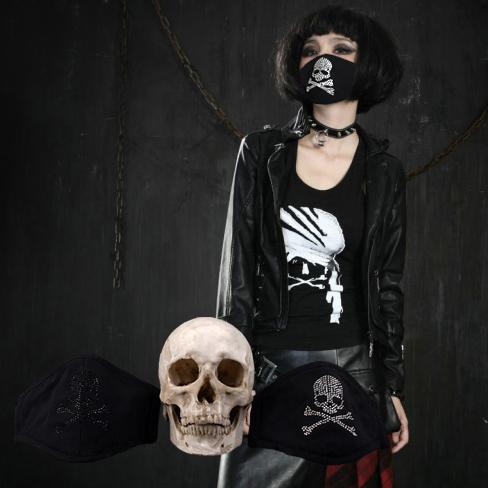OK: (292, 33, 358, 99)
